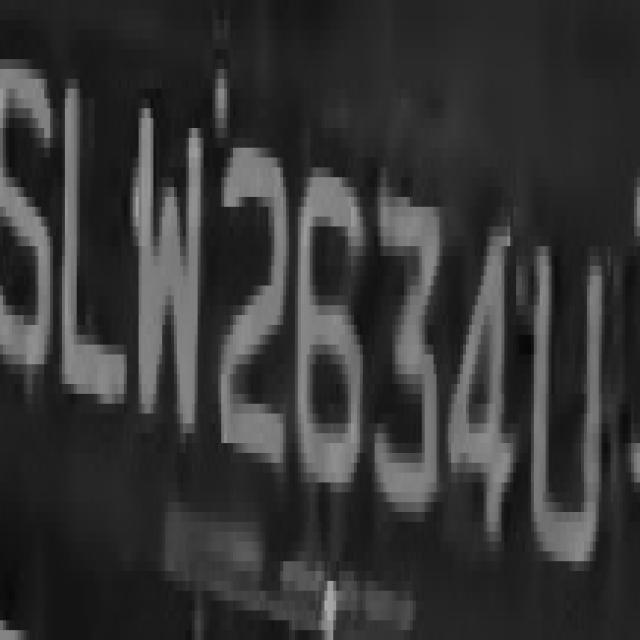2: (218, 108, 295, 502)
3: (372, 178, 445, 552)
4: (442, 167, 522, 571)
6: (289, 148, 369, 532)
L: (53, 30, 124, 443)
S: (9, 39, 56, 394)
U: (522, 187, 608, 591)
W: (124, 89, 215, 472)
